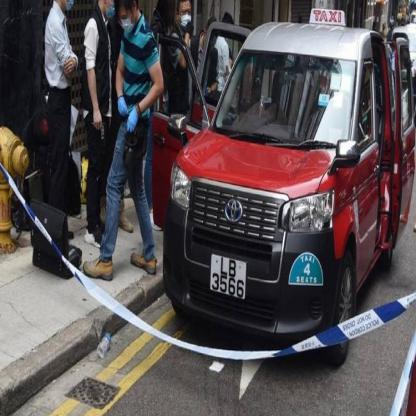taxi: (160, 13, 416, 366)
